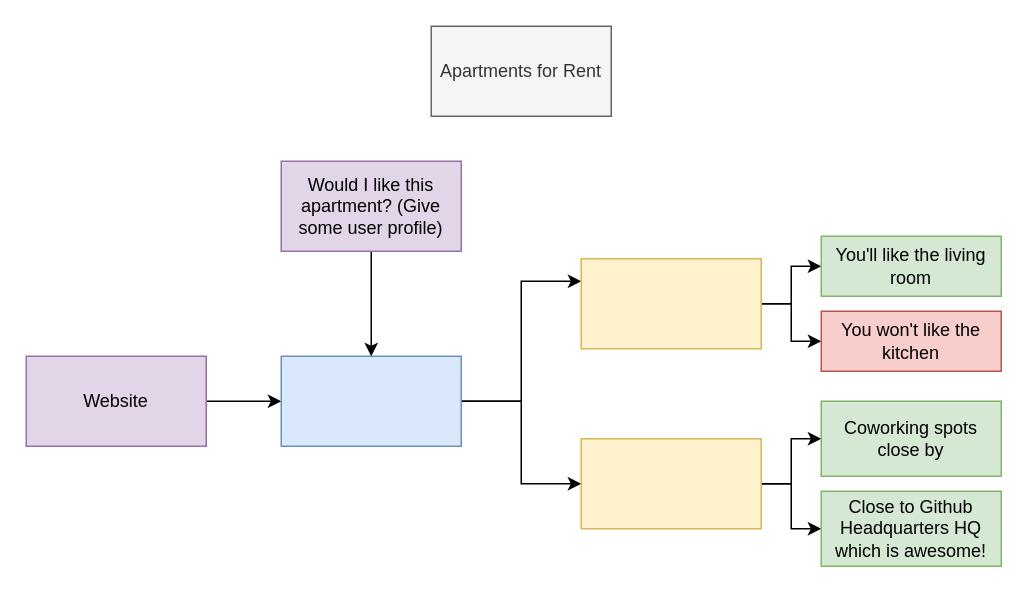
Image size: 1028x593. Some labels were removed from this diagram. The box of each missing label's shape, as (x1, y1, x2, y2) in pixels:
"Area/Vibes" apartment evaluator: (580, 437, 761, 529)
"Living Space" apartment evaluator: (580, 257, 761, 349)
Planning agent splits context (Picture of apartment vs location): (280, 355, 461, 446)
